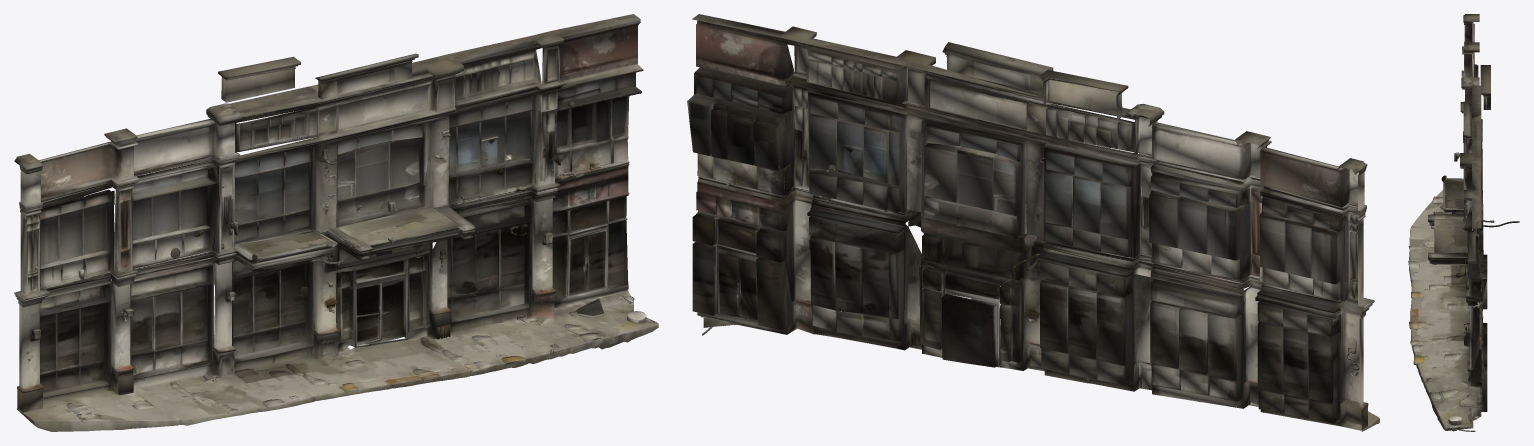
File: mall_entrance.glb
3 views of the same model, side by side, from view 1: azimuth 30°, elevation 25°; view 2: azimuth 150°, elevation 25°; view 3: azimuth 270°, elevation 25° (orthographic). The views are drawn at different scales.
Visible parts, largest first — view 1: tripo_node_18ad9440-63d5-44a6-a330-4a72fc84f9c7; view 2: tripo_node_18ad9440-63d5-44a6-a330-4a72fc84f9c7; view 3: tripo_node_18ad9440-63d5-44a6-a330-4a72fc84f9c7.
Part boxes in pixels (left/top/right/bottom): tripo_node_18ad9440-63d5-44a6-a330-4a72fc84f9c7: left=14, top=14, right=658, bottom=431; tripo_node_18ad9440-63d5-44a6-a330-4a72fc84f9c7: left=687, top=14, right=1379, bottom=431; tripo_node_18ad9440-63d5-44a6-a330-4a72fc84f9c7: left=1408, top=14, right=1519, bottom=431.
Size of the model in its own units: 11.71 by 6 by 2.61.
Materials: 1 (1 with a texture image).
